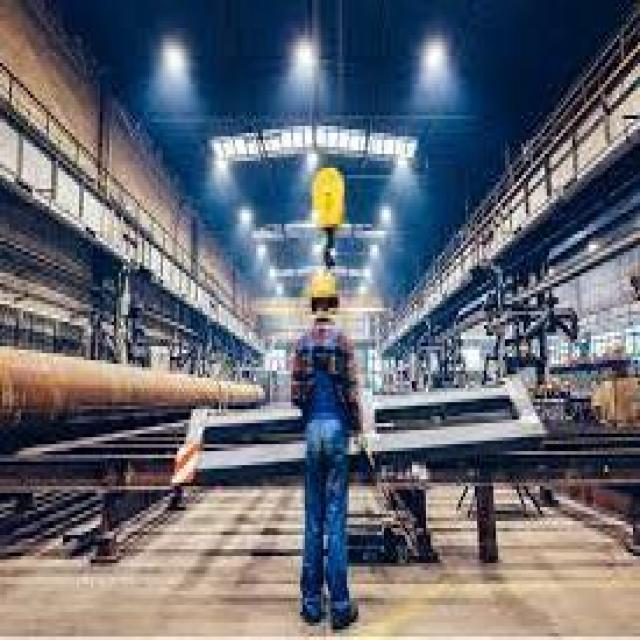Reflective-Jacket: (286, 322, 368, 444)
Safety-Helmet: (296, 262, 344, 318)
